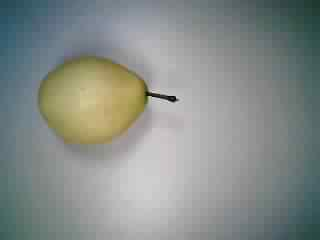pear: (31, 44, 185, 151)
